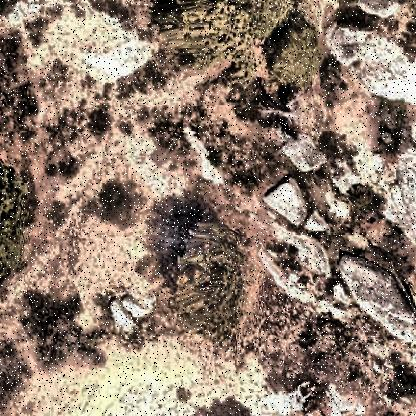tree-top: (161, 223, 279, 333), (149, 1, 278, 83), (263, 17, 331, 95), (1, 154, 32, 280)
